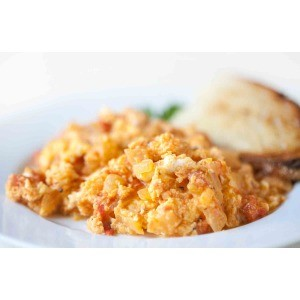egg_brain food: (96, 128, 198, 210)
